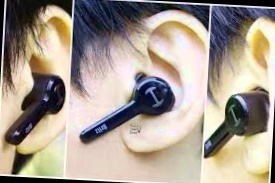earphone: (80, 5, 208, 157), (204, 14, 275, 183), (4, 2, 73, 156)
